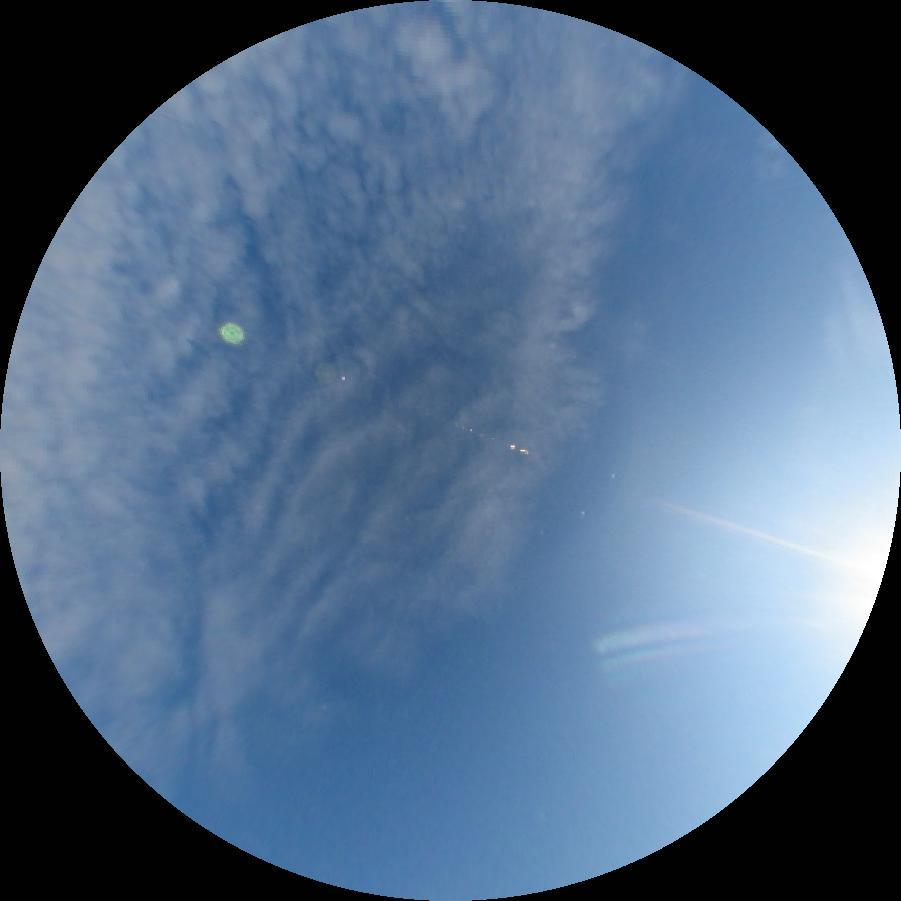parasite: (657, 497, 845, 565), (594, 611, 753, 654)
